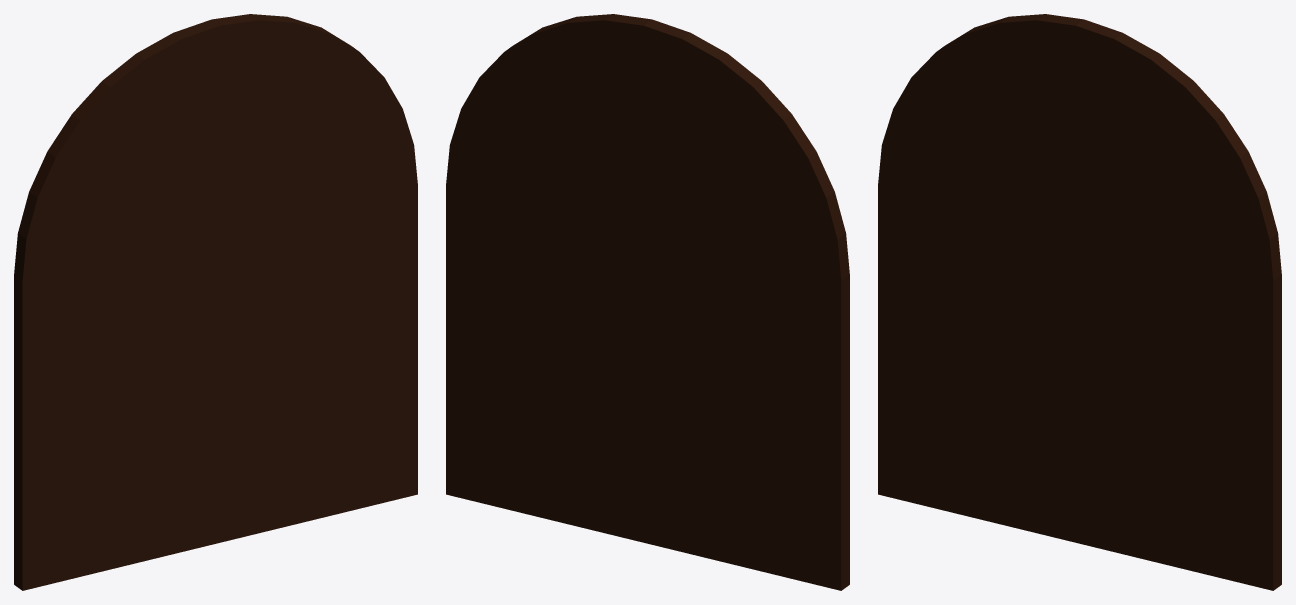
The model's file is Wall-Castle-Door.FBX.
The picture shows the model from 3 angles, left to right: view 1: azimuth 30°, elevation 25°; view 2: azimuth 150°, elevation 25°; view 3: azimuth 330°, elevation 25°; orthographic projection.
Parts seen in each view (by area): view 1: Wall-Castle-Door; view 2: Wall-Castle-Door; view 3: Wall-Castle-Door.
Boxes of the visible parts, x1,y1,x2,y2 form: Wall-Castle-Door: (14, 14, 417, 590); Wall-Castle-Door: (446, 14, 849, 590); Wall-Castle-Door: (878, 14, 1281, 590).
Bounding box in the file's own units: 40 × 1.5 × 50.
